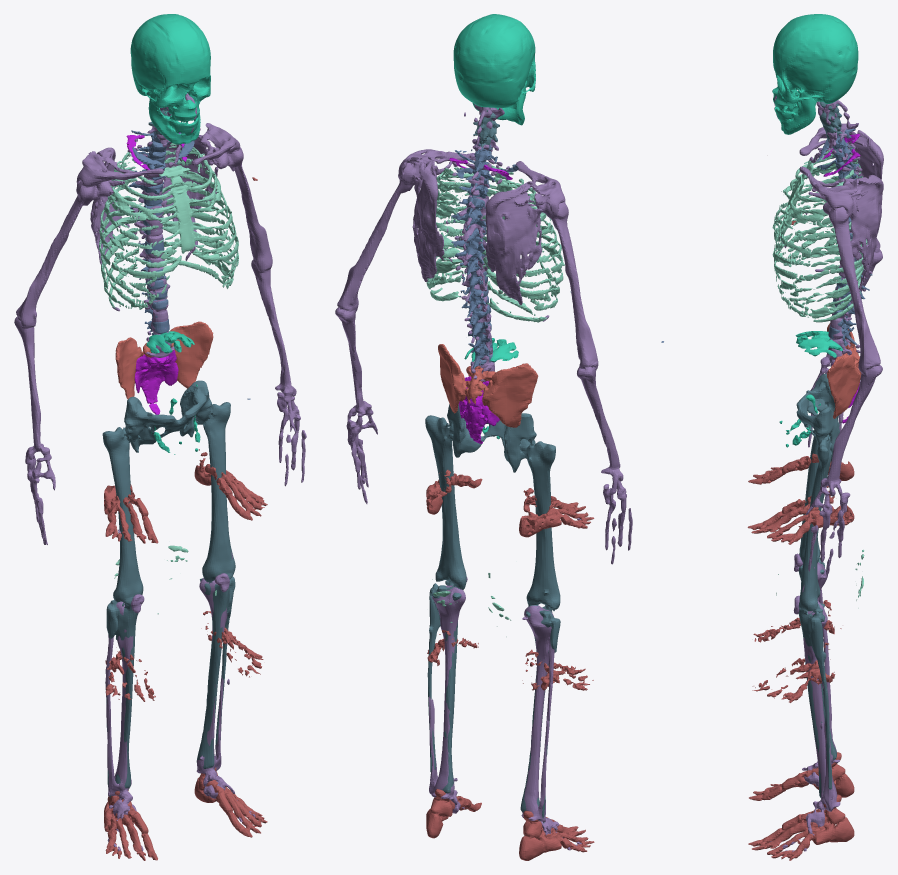
3 renders of one model, left to right at view 1: azimuth 30°, elevation 25°; view 2: azimuth 150°, elevation 25°; view 3: azimuth 270°, elevation 25°, orthographic. The views are drawn at different scales.
Parts seen in each view (by area): view 1: world; view 2: world; view 3: world.
Part boxes in pixels (box(x1,y1,x2,y2)): world: box(14, 14, 306, 860); world: box(335, 14, 632, 860); world: box(661, 14, 883, 860).
Size of the model in its own units: 0.6957 by 2 by 0.5007.
